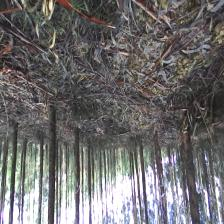trunk: (182, 137, 200, 214), (153, 132, 167, 218), (47, 109, 56, 222), (8, 126, 18, 218), (139, 141, 148, 216), (132, 146, 142, 208), (74, 128, 79, 218), (21, 138, 27, 208), (38, 136, 43, 216), (87, 140, 91, 215)
